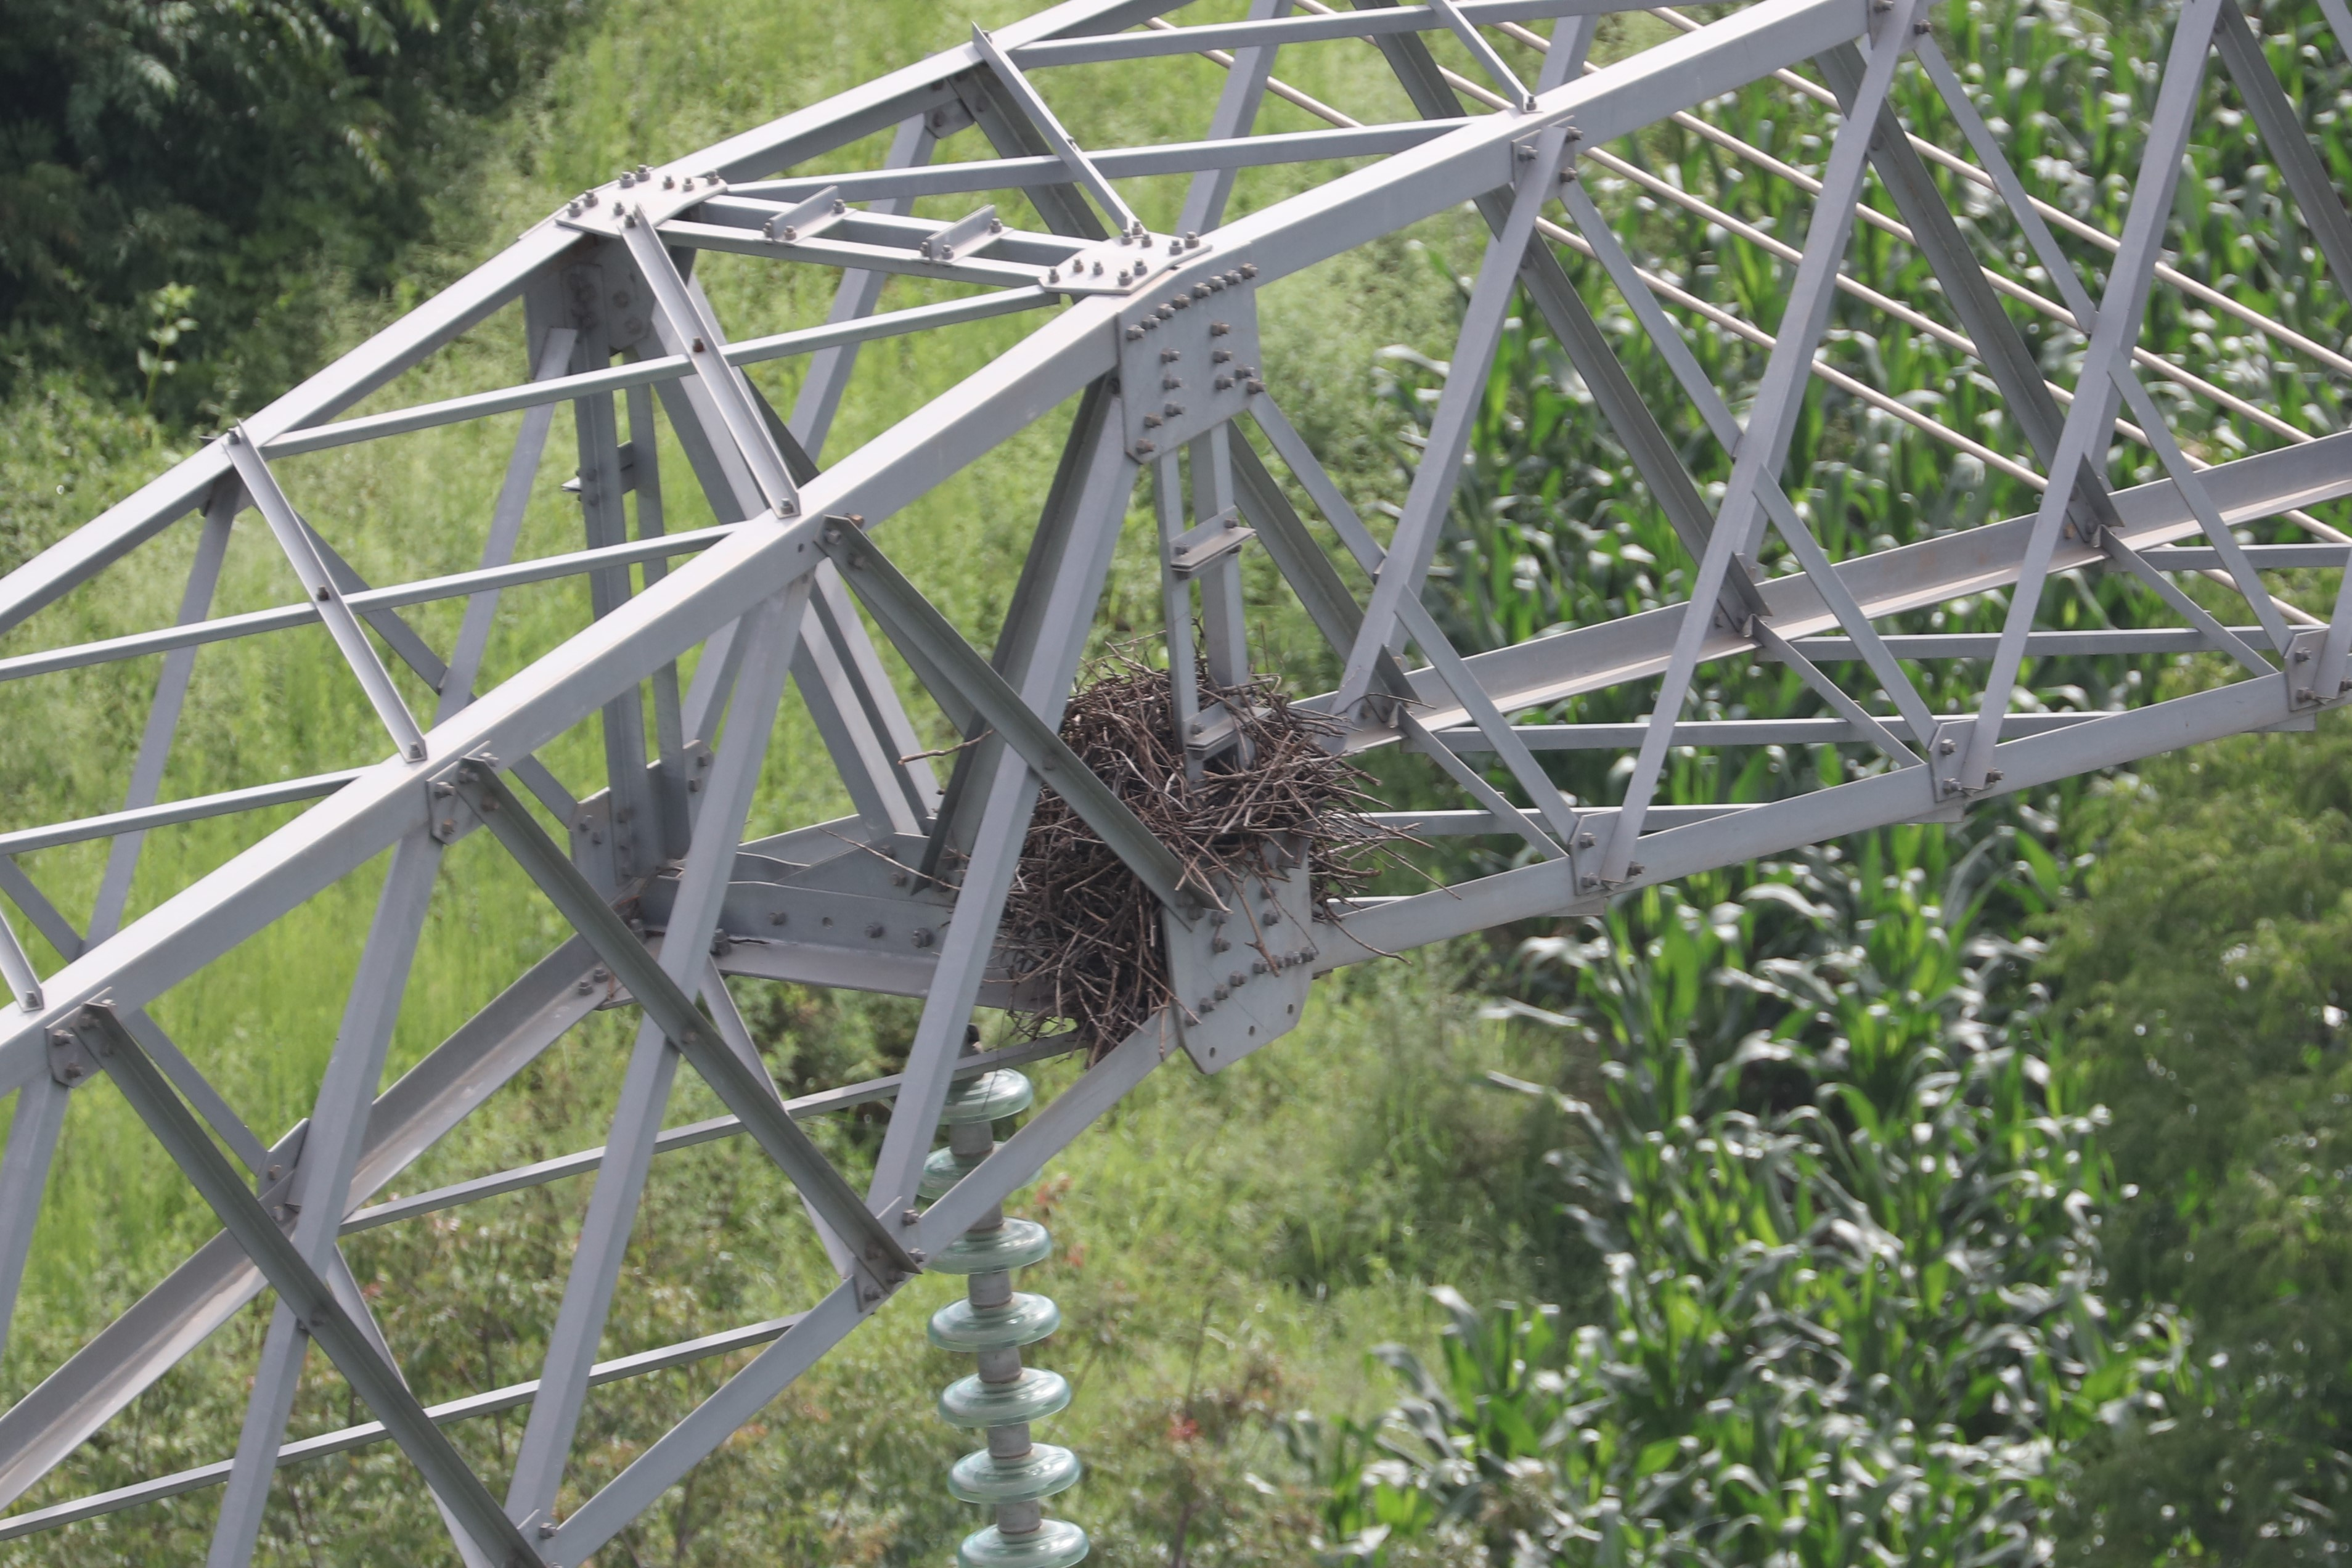niaowo: (962, 646, 1372, 1025)
